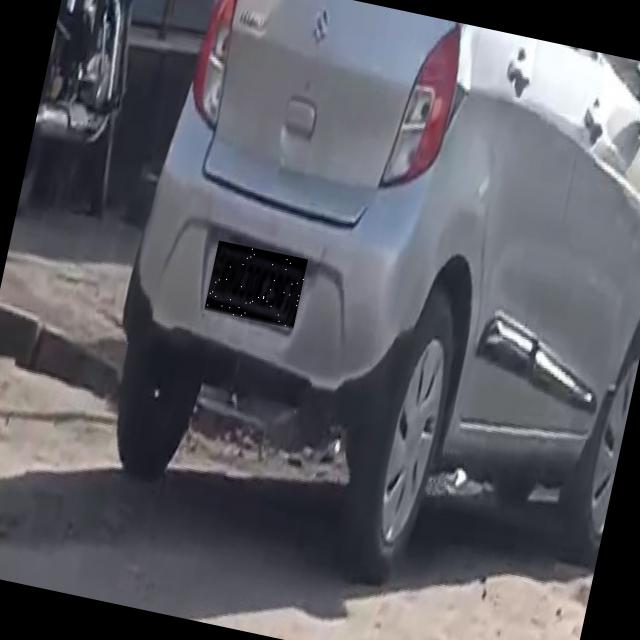Plate: (205, 242, 309, 331)
